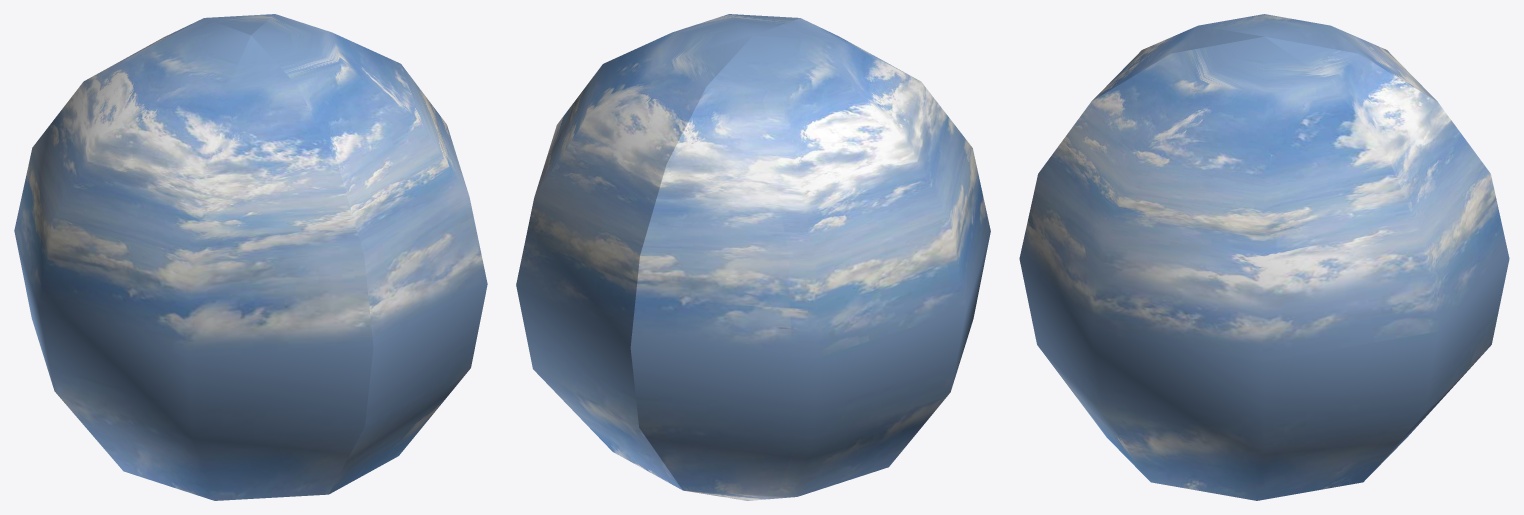
The model's file is sky.fbx.
The picture shows the model from 3 angles, left to right: view 1: azimuth 30°, elevation 25°; view 2: azimuth 150°, elevation 25°; view 3: azimuth 270°, elevation 25°; orthographic projection.
Parts seen in each view (by area): view 1: obj1; view 2: obj1; view 3: obj1.
Part boxes in pixels (bbox=[...]): obj1: bbox=[14, 14, 487, 500]; obj1: bbox=[516, 14, 990, 500]; obj1: bbox=[1019, 14, 1509, 500].
Size of the model in its own units: 18.03 by 18.65 by 18.03.
Materials: 1 (1 with a texture image).
